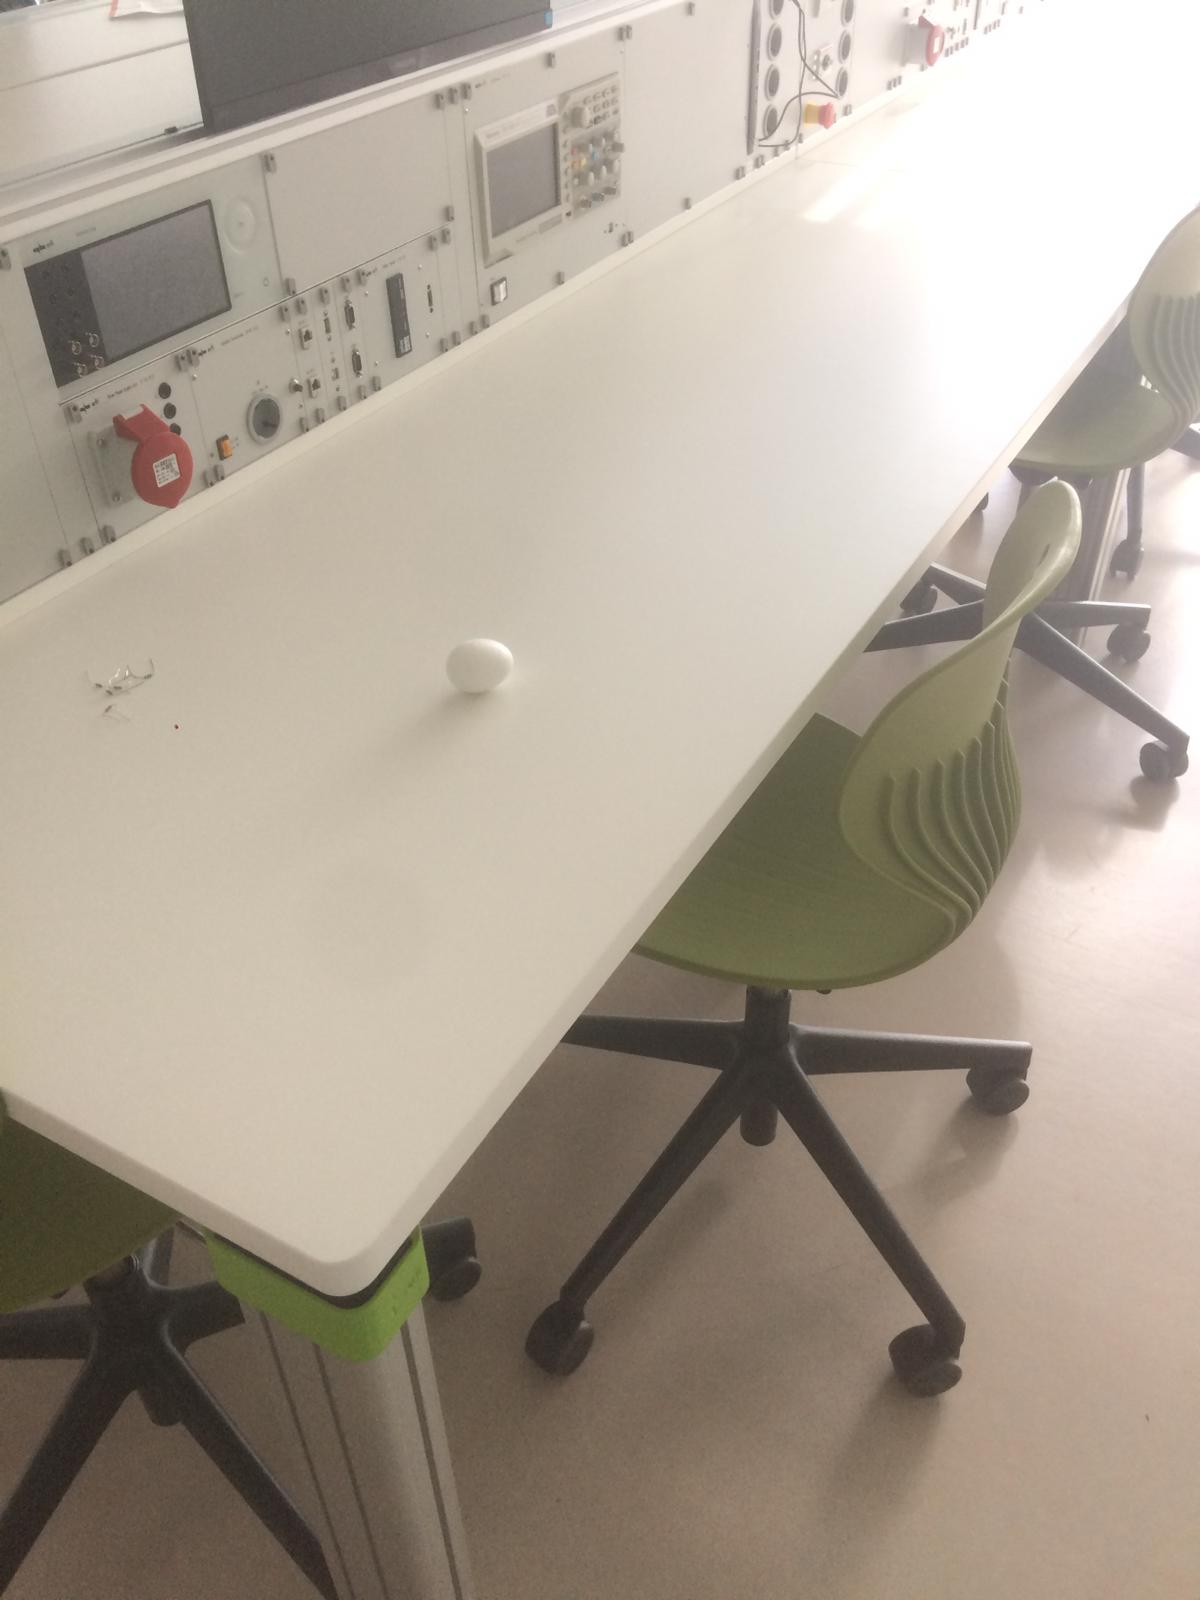egg: (437, 629, 521, 700)
